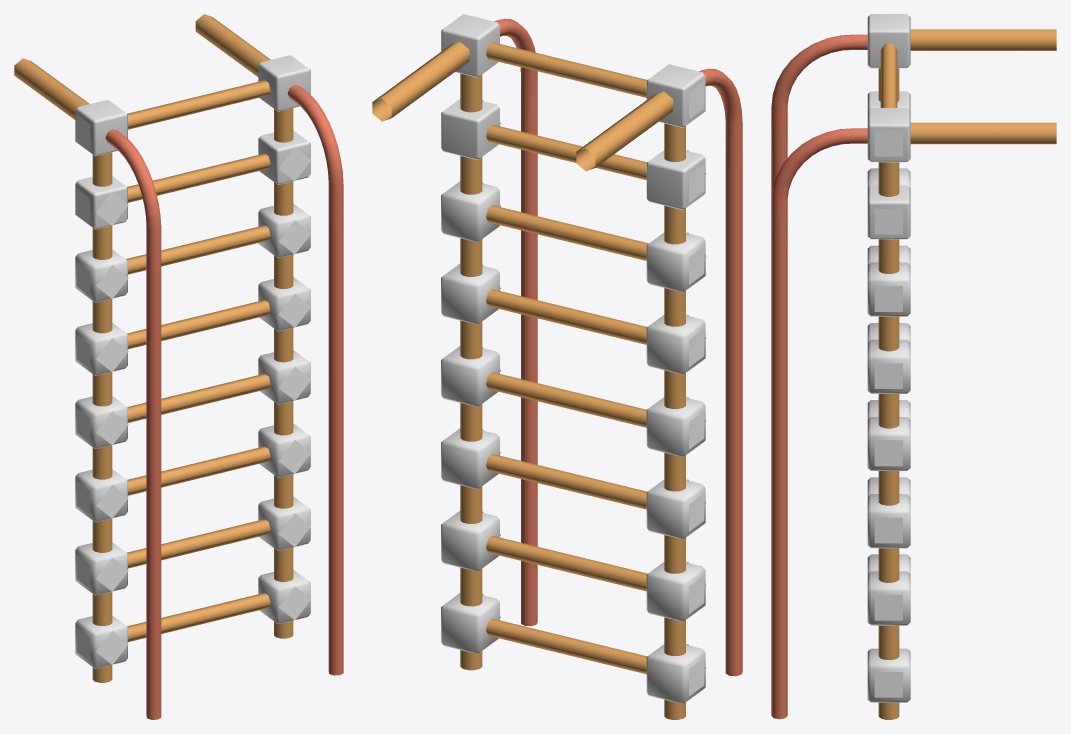
The model's file is Ladder.dae.
3 views of the same model, side by side, from view 1: azimuth 30°, elevation 25°; view 2: azimuth 150°, elevation 25°; view 3: azimuth 270°, elevation 25° (orthographic). The views are drawn at different scales.
Visible parts, largest first — view 1: Ladder.Middle, Ladder.Landing; view 2: Ladder.Middle, Ladder.Landing; view 3: Ladder.Middle, Ladder.Landing.
Boxes of the visible parts, bbox=[...] form: Ladder.Middle: bbox=[75, 197, 343, 719]; Ladder.Landing: bbox=[14, 14, 343, 280]; Ladder.Middle: bbox=[441, 129, 742, 719]; Ladder.Landing: bbox=[372, 14, 742, 226]; Ladder.Middle: bbox=[771, 159, 910, 719]; Ladder.Landing: bbox=[771, 14, 1056, 256].
Size of the model in its own units: 1.57 by 1.67 by 3.89.
